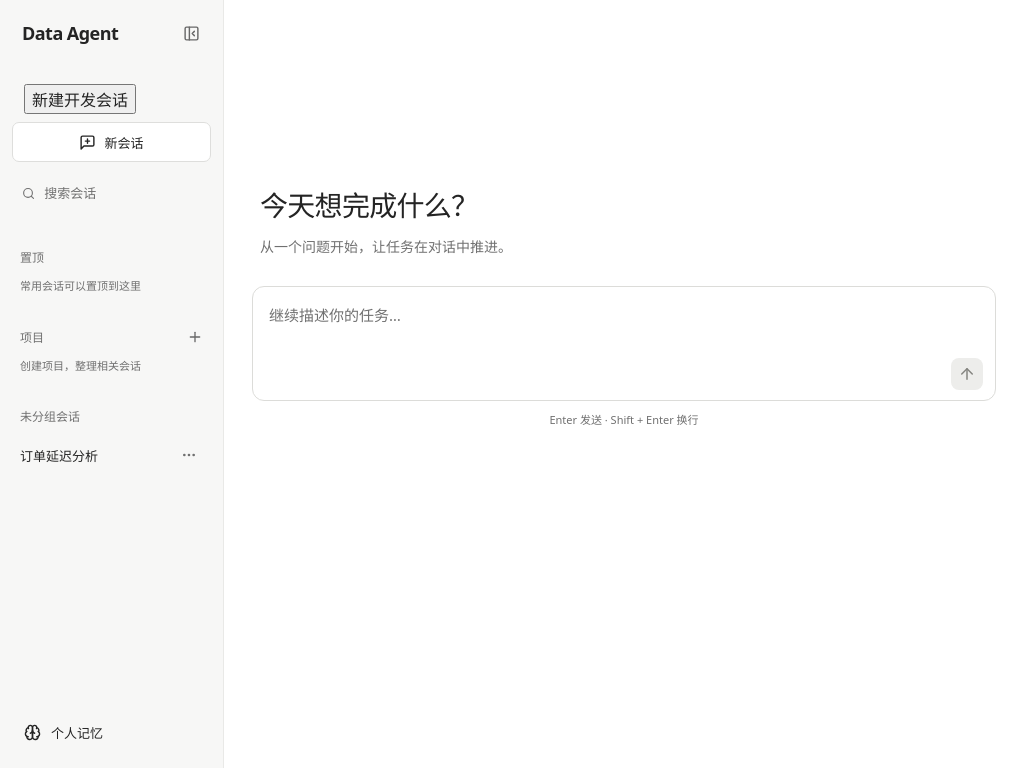
server-backed conversation workspace › does not duplicate persisted assistant answers with execution checkpoints
This screenshot has width=1024, height=768.
Click the button "订单延迟分析". click: {"x": 90, "y": 455}
box: [12,437,167,474]
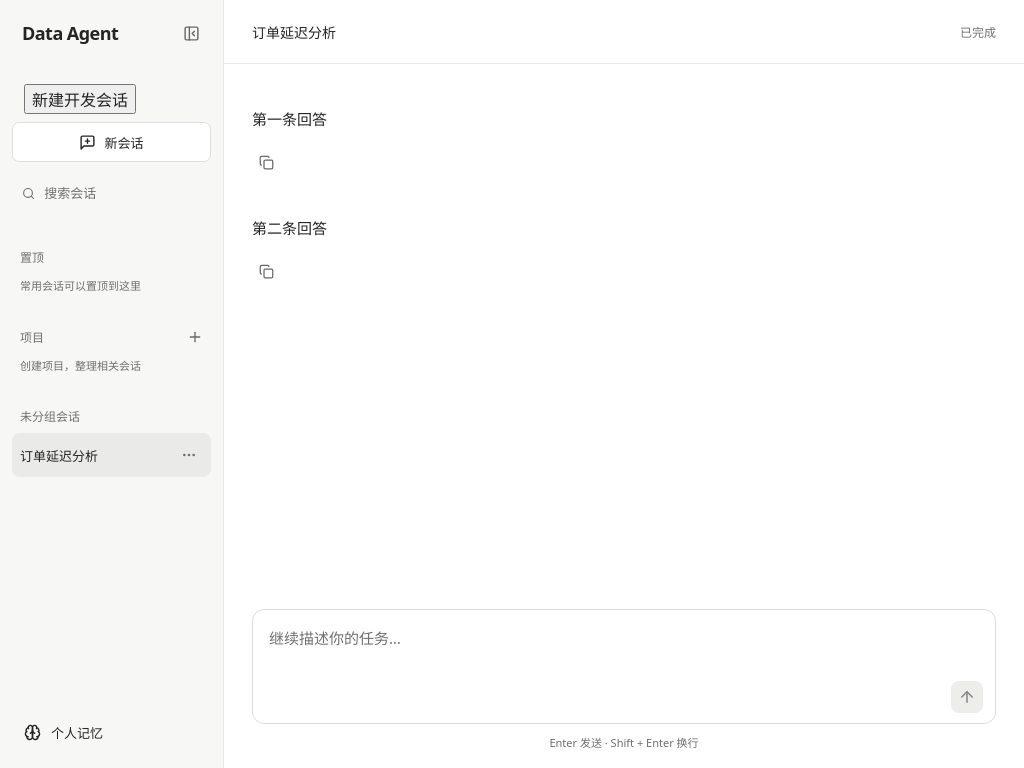
Now the text "第一条回答" is shown once, box [252,109,327,129]
Now the text "第二条回答" is shown once, box [252,218,327,238]
